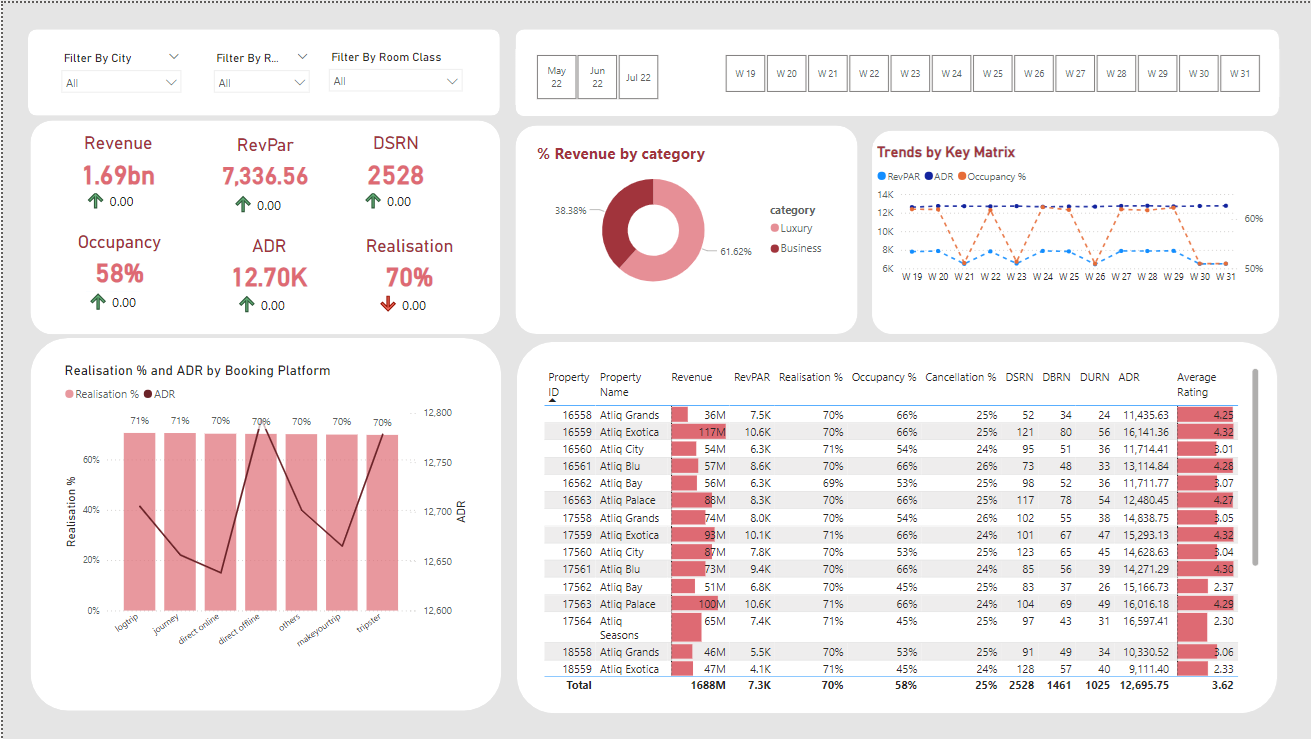

Layout of this report page (visuals, bound fields, positions):
{"tool":"powerbi","page":{"name":"Page 1","canvas":[1600,900],"ordinal":0},"visuals":[{"type":"shape","box":[33.7,409.3,575.7,455.7],"z":0,"group":"g2"},{"type":"shape","box":[628,413.6,930,454.3],"z":1000,"group":"g2"},{"type":"slicer","fields":{"Values":["dim_date.mmm yy"]},"box":[627.3,56.1,198.5,67.8],"z":2000,"group":"g1"},{"type":"shape","box":[1062.4,155.9,498.3,249.2],"z":2000,"group":"g2"},{"type":"slicer","fields":{"Values":["dim_date.week no"]},"box":[857.6,56,703.3,58.6],"z":3000,"group":"g1"},{"type":"shape","box":[627.3,149.6,418.2,255],"z":3000,"group":"g2"},{"type":"shape","box":[33.7,143.6,574.3,261.4],"z":4000,"group":"g2"},{"type":"tableEx","title":".","fields":{"Values":["key_measures (2).\"Realisation WoW change %"]},"box":[449.4,327.5,97.2,77],"z":5000,"group":"g2"},{"type":"tableEx","title":".","fields":{"Values":["key_measures (2).\"DSRN WoW change %"]},"box":[431.1,200.8,97.2,77],"z":6000,"group":"g2"},{"type":"tableEx","title":".","fields":{"Values":["key_measures (2).\"ADR WoW change %"]},"box":[277,327.5,97.2,77],"z":7000,"group":"g2"},{"type":"tableEx","title":".","fields":{"Values":["key_measures (2).\"Occupancy WoW change %"]},"box":[94.5,323.9,97.2,77],"z":8000,"group":"g2"},{"type":"shape","box":[627.3,32.2,933.6,106.4],"z":9000,"group":"g2"},{"type":"tableEx","fields":{"Values":["dim_hotels.property_id","dim_hotels.property_name","key_measures (2).Revenue","key_measures (2).RevPAR","key_measures (2).Realisation %","key_measures (2).Occupancy %","key_measures (2).Cancellation %","key_measures (2).DSRN","key_measures (2).DBRN","key_measures (2).DURN","key_measures (2).ADR","key_measures (2).Average Rating"]},"box":[656.4,441.6,885,406.6],"z":10000,"group":"g2"},{"type":"shape","box":[30.6,32.1,577.1,105.7],"z":11000,"group":"g2"},{"type":"slicer","fields":{"Values":["dim_hotels.city"]},"box":[60.5,54.2,166.9,82.5],"z":12000,"group":"g2"},{"type":"tableEx","title":".","fields":{"Values":["key_measures (2).\"Revenue WoW change %"]},"box":[92.3,200.8,97.2,77],"z":13000,"group":"g2"},{"type":"donutChart","title":"% Revenue by category","fields":{"Category":["dim_hotels.category"],"Y":["key_measures (2).Revenue"]},"box":[647.5,171.6,368.7,194.4],"z":14000,"group":"g2"},{"type":"slicer","fields":{"Values":["dim_hotels.category"]},"box":[247.6,54.2,137.6,82.5],"z":15000,"group":"g2"},{"type":"slicer","fields":{"Values":["dim_rooms.room_class"]},"box":[388.9,52.4,183.4,82.5],"z":16000,"group":"g2"},{"type":"card","title":"Revenue","fields":{"Values":["key_measures (2).Revenue"]},"box":[75.3,158.8,132.1,73.4],"z":17000,"group":"g2"},{"type":"lineChart","title":"Trends by Key Matrix","fields":{"Category":["dim_date.week no","dim_date.mmm yy"],"Y":["key_measures (2).RevPAR","key_measures (2).ADR"],"Y2":["key_measures (2).Occupancy %"]},"box":[1063.9,171.6,482.4,181.6],"z":18000,"group":"g2"},{"type":"lineStackedColumnComboChart","fields":{"Category":["fact_bookings.booking_platform"],"Y":["key_measures (2).Realisation %"],"Y2":["key_measures (2).ADR"]},"box":[69.7,439.4,502.6,363.2],"z":19000,"group":"g2"},{"type":"group","id":"g1","title":"Group 2","box":[627.3,56,933.6,67.9],"z":20000,"group":"g2"},{"type":"card","title":"Realisation","fields":{"Values":["key_measures (2).Realisation %"]},"box":[431.1,283.8,132.1,73.4],"z":21000,"group":"g2"},{"type":"card","title":"ADR","fields":{"Values":["key_measures (2).ADR"]},"box":[258.3,283.6,133.9,73.4],"z":22000,"group":"g2"},{"type":"card","title":"DSRN","fields":{"Values":["key_measures (2).DSRN"]},"box":[413.7,158.6,132.1,73.4],"z":23000,"group":"g2"},{"type":"card","title":"Occupancy","fields":{"Values":["key_measures (2).Occupancy %"]},"box":[77.1,279.9,132.1,73.4],"z":24000,"group":"g2"},{"type":"tableEx","title":".","fields":{"Values":["key_measures (2).\"Revpar WoW change %"]},"box":[272,204.4,97.2,77],"z":25000,"group":"g2"},{"type":"card","title":"RevPar","fields":{"Values":["key_measures (2).RevPAR"]},"box":[253.7,160.7,133.9,73.4],"z":26000,"group":"g2"},{"type":"group","id":"g2","title":"Group 1","box":[30.6,32.1,1530.4,835.8],"z":26001}]}

Visuals, with their boxes in screenshot pixels (x1, y1, x2, y2), scaled from the page's 1600x900 canvas onto the 1311x739 screenshot:
shape: 28, 336, 499, 710
shape: 515, 340, 1277, 713
slicer - dim_date.mmm yy: 514, 46, 677, 102
shape: 871, 128, 1279, 333
slicer - dim_date.week no: 703, 46, 1279, 94
shape: 514, 123, 857, 332
shape: 28, 118, 498, 333
"." tableEx: 368, 269, 448, 332
"." tableEx: 353, 165, 433, 228
"." tableEx: 227, 269, 307, 332
"." tableEx: 77, 266, 157, 329
shape: 514, 26, 1279, 114
tableEx - dim_hotels.property_id x dim_hotels.property_name: 538, 363, 1263, 696
shape: 25, 26, 498, 113
slicer - dim_hotels.city: 50, 45, 186, 112
"." tableEx: 76, 165, 155, 228
"% Revenue by category" donutChart: 531, 141, 833, 301
slicer - dim_hotels.category: 203, 45, 316, 112
slicer - dim_rooms.room_class: 319, 43, 469, 111
"Revenue" card: 62, 130, 170, 191
"Trends by Key Matrix" lineChart: 872, 141, 1267, 290
lineStackedColumnComboChart - fact_bookings.booking_platform x key_measures (2).Realisation %: 57, 361, 469, 659
"Group 2" group: 514, 46, 1279, 102
"Realisation" card: 353, 233, 461, 293
"ADR" card: 212, 233, 321, 293
"DSRN" card: 339, 130, 447, 190
"Occupancy" card: 63, 230, 171, 290
"." tableEx: 223, 168, 303, 231
"RevPar" card: 208, 132, 318, 192
"Group 1" group: 25, 26, 1279, 713
